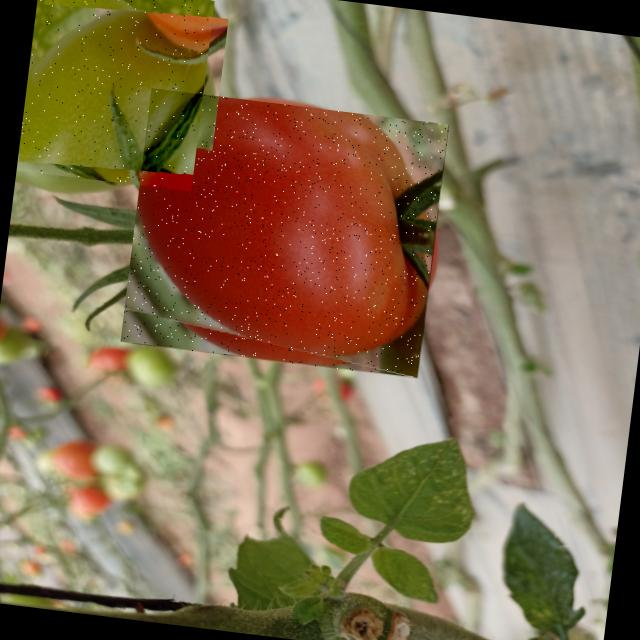Ripe Tomato: (120, 88, 449, 378)
Unripe Tomato: (16, 0, 214, 191)
